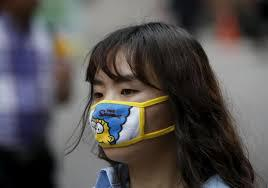WRONG: (88, 66, 184, 162)
